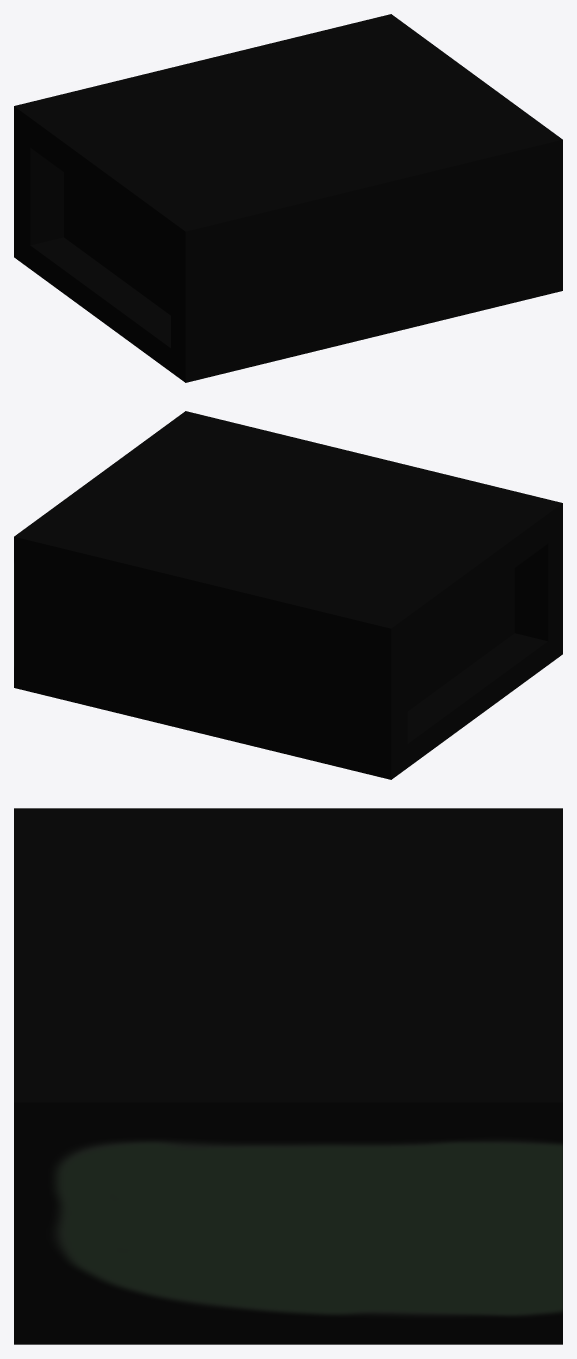
The model's file is MagM60.fbx.
The picture shows the model from 3 angles, top to bottom: view 1: azimuth 30°, elevation 25°; view 2: azimuth 150°, elevation 25°; view 3: azimuth 270°, elevation 25°; orthographic projection. The views are drawn at different scales.
Visible parts, largest first — view 1: Cube; view 2: Cube; view 3: Cube.
Part boxes in pixels (x1,y1,x2,y2): Cube: [14, 14, 562, 382]; Cube: [14, 411, 562, 779]; Cube: [14, 808, 562, 1344].
Bounding box in the file's own units: 0.1343 × 0.0514 × 0.1058.
